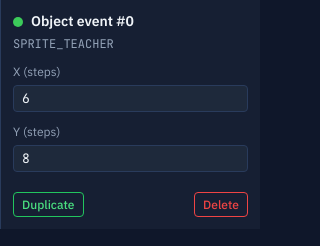
GbcEventInspector › a cleared field reverts on blur and sends nothing; no NaN reaches the input
Clear the number field labelled "X (steps)": (130, 99) [13, 85, 248, 112]
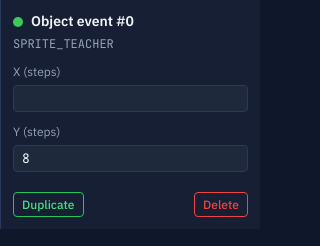
Leave the number field labelled "X (steps)", box [13, 85, 248, 112]
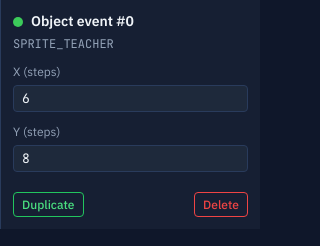
Result: the number field labelled "X (steps)" holds "6" at [13, 85, 248, 112]
